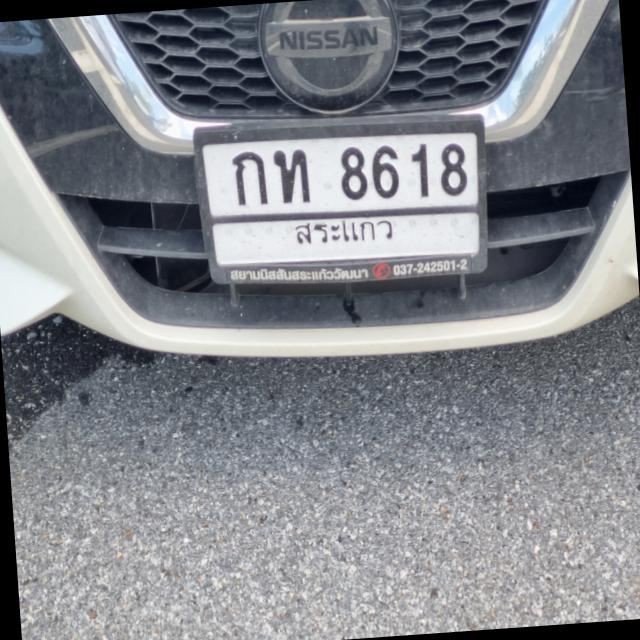license_plate: (188, 102, 490, 300)
